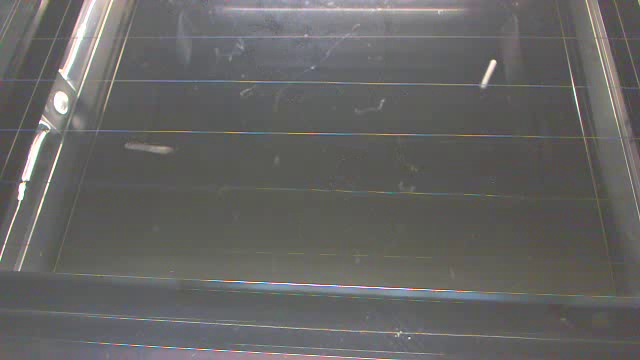alpha: (123, 138, 174, 155), (479, 57, 498, 90)
